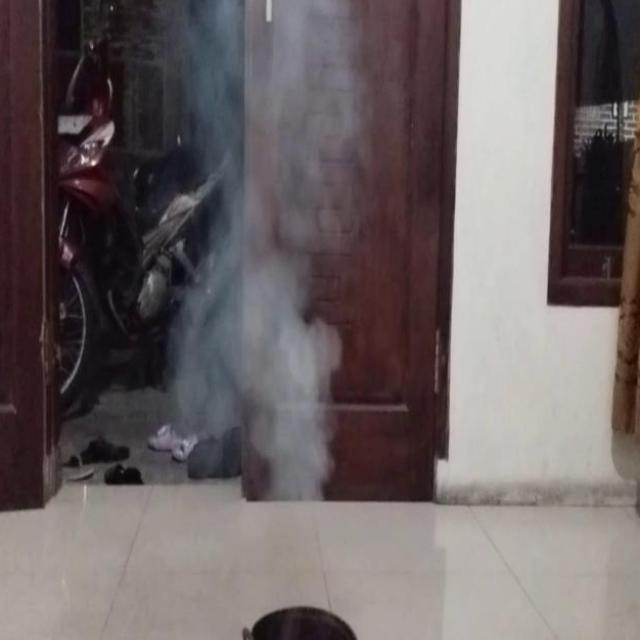fire: (167, 246, 346, 508), (197, 0, 364, 243)
